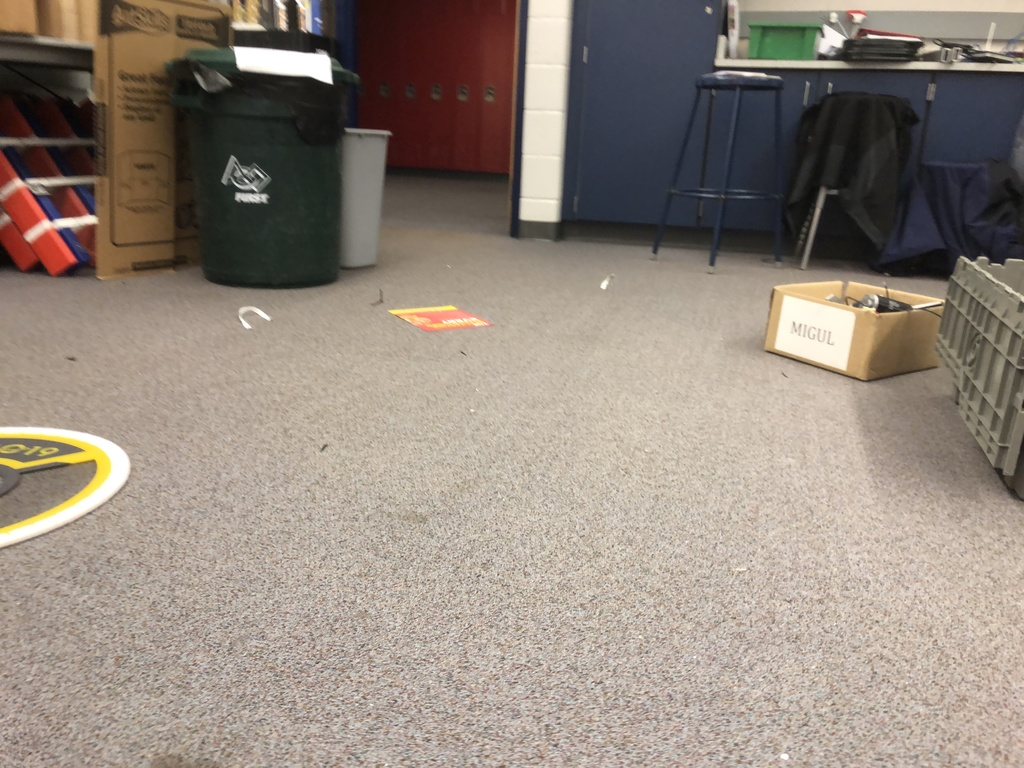hatch_panel: (1, 415, 146, 564)
